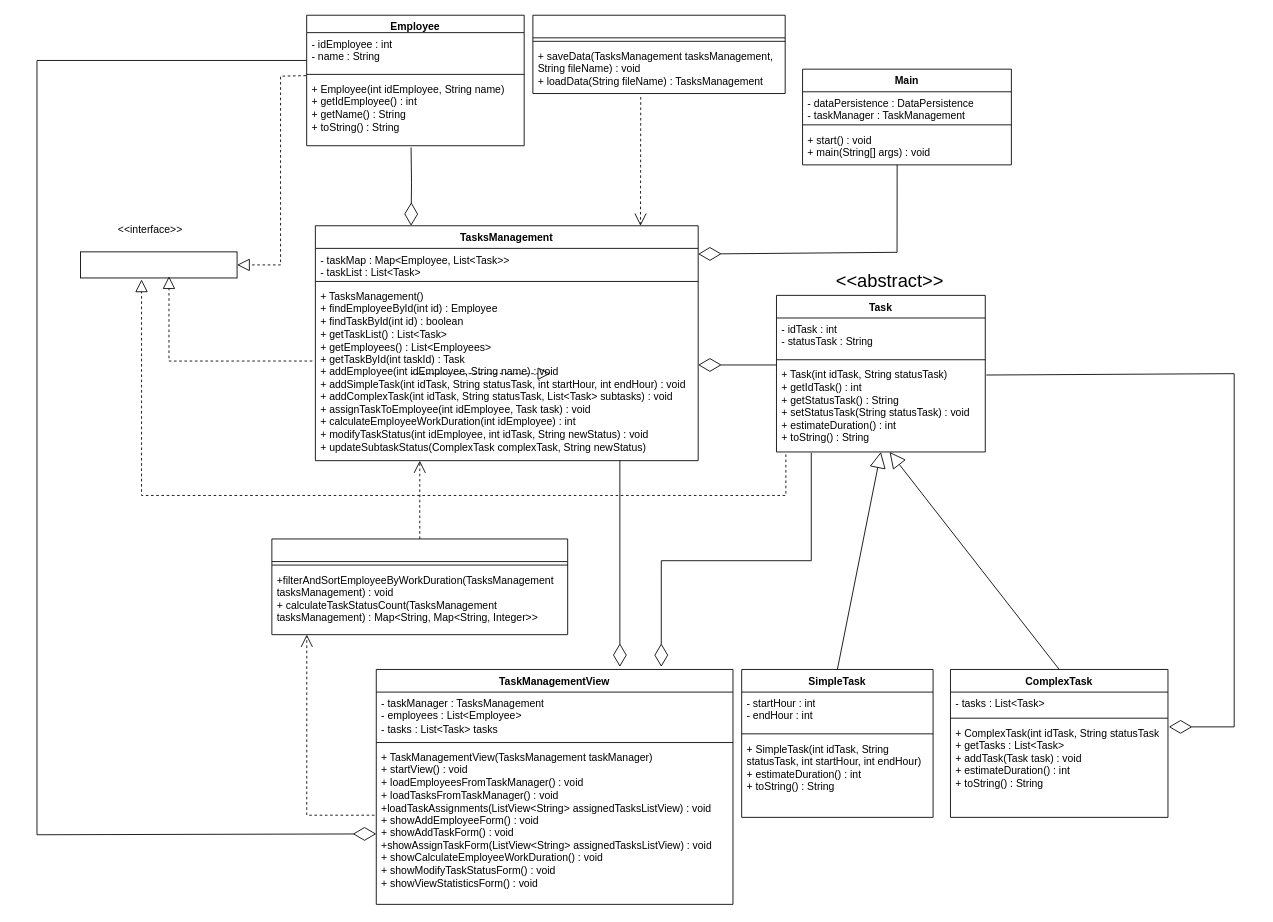
Image size: 1273x922. Some labels were removed from this diagram. The shapes that lost their labels are listed below. From the top down, each one's box as (x1, y1, x2, y2) in pixels, then its label:
(532, 14, 785, 94): DataPersistence
(80, 251, 237, 278): Serializable
(271, 538, 568, 635): Utility
